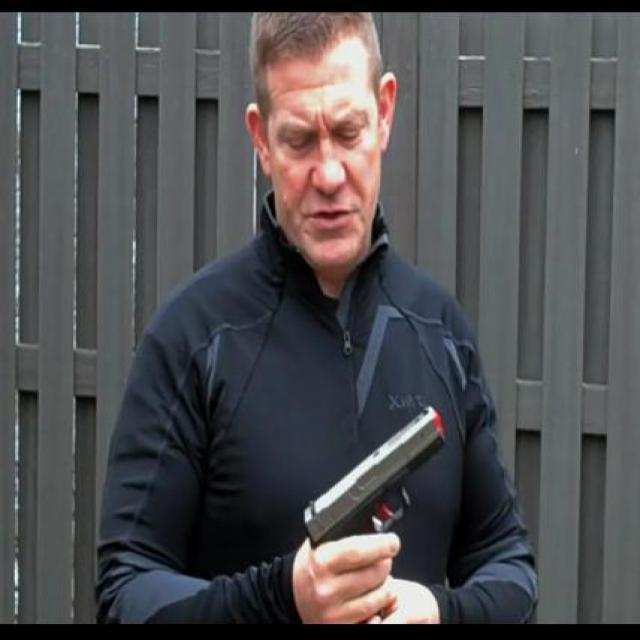gun: (288, 399, 454, 617)
